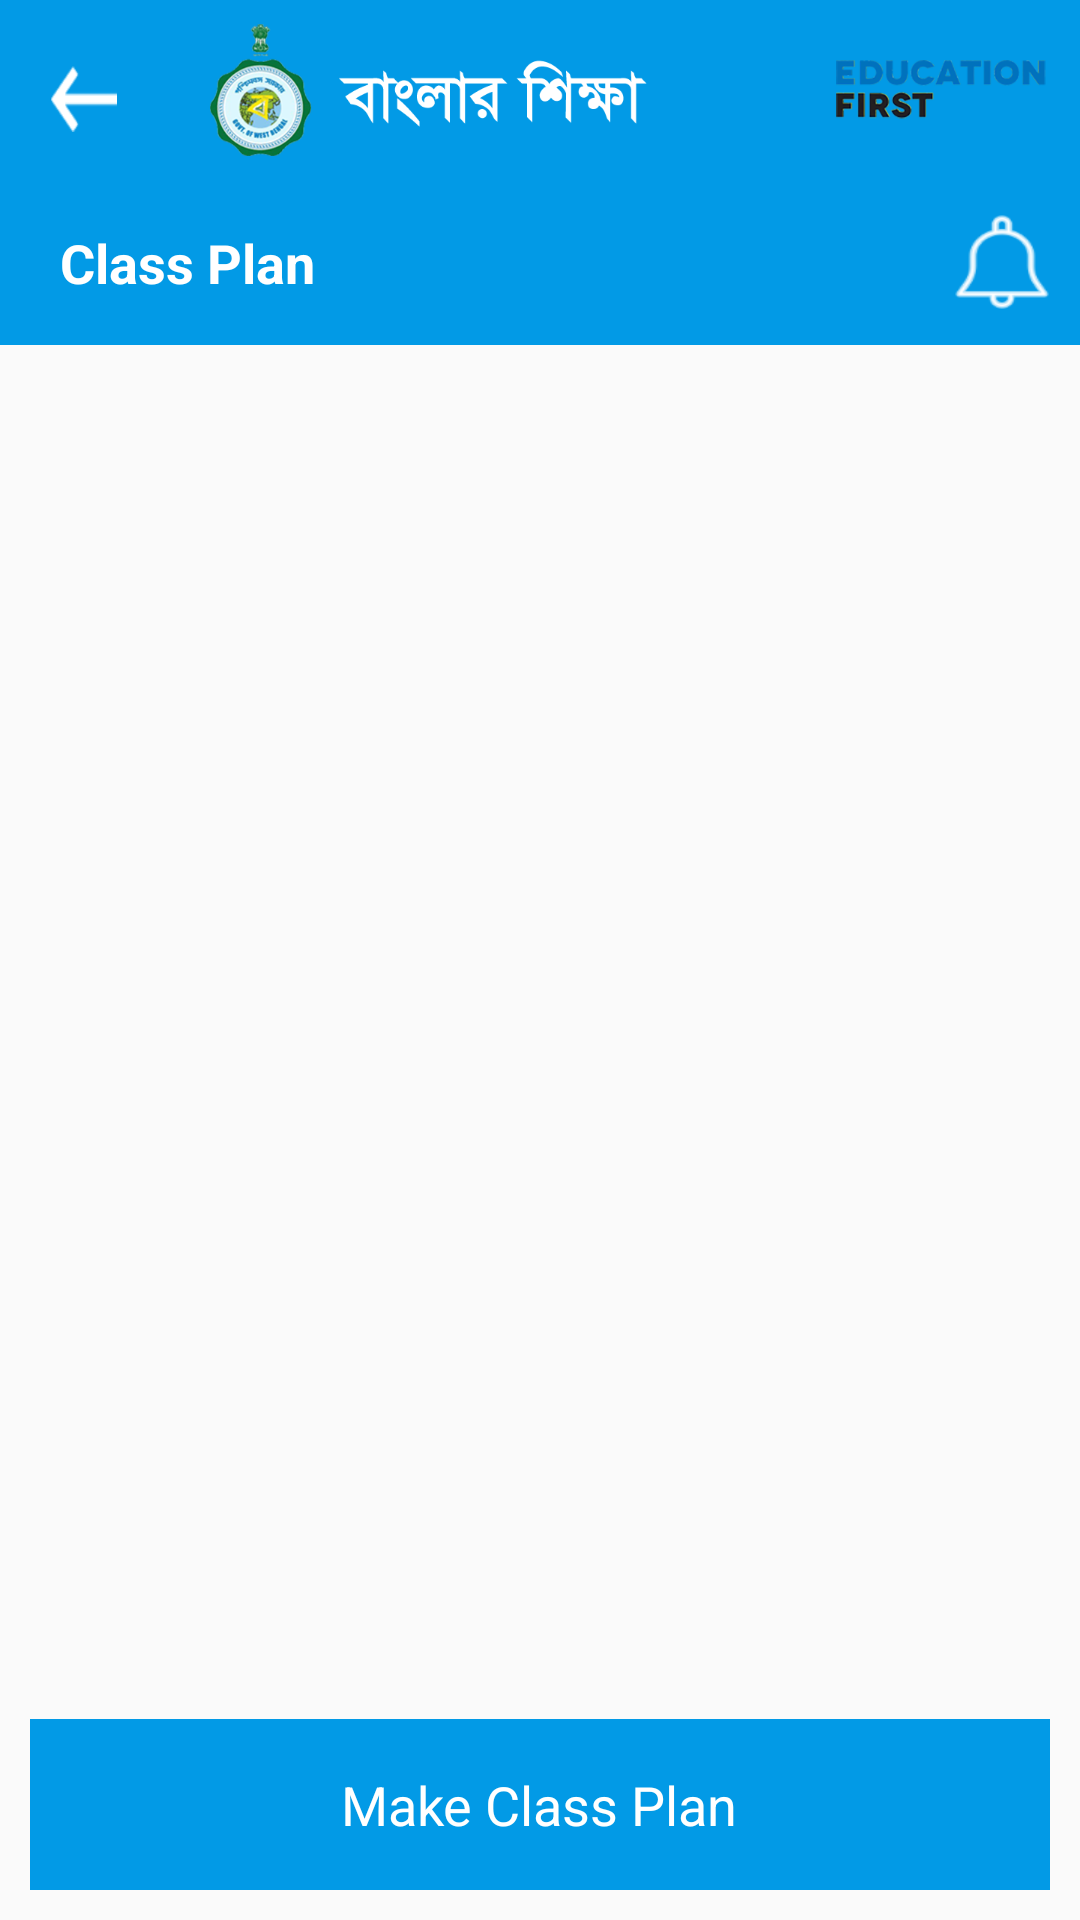

Icons on this 1080×1920 Android screen, each with its box as (x1, y1, x2, y2):
notification: (955, 215, 1049, 309)
